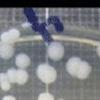white: (36, 63, 57, 83), (65, 55, 80, 78), (47, 42, 64, 62), (0, 42, 16, 61), (77, 61, 92, 81), (15, 53, 31, 69), (14, 69, 29, 86), (5, 67, 18, 85), (0, 72, 11, 92), (8, 28, 21, 43), (0, 32, 12, 43), (38, 93, 55, 100), (0, 94, 19, 100), (96, 43, 100, 57)
